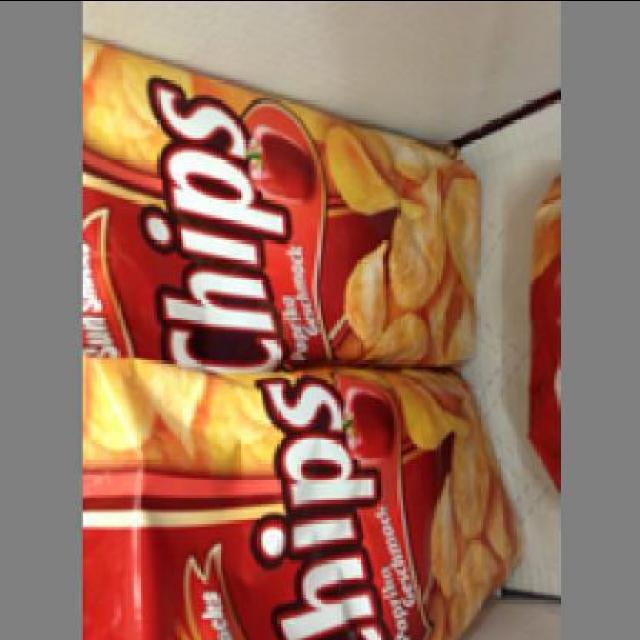Chips: (80, 54, 480, 363), (84, 364, 522, 638)
